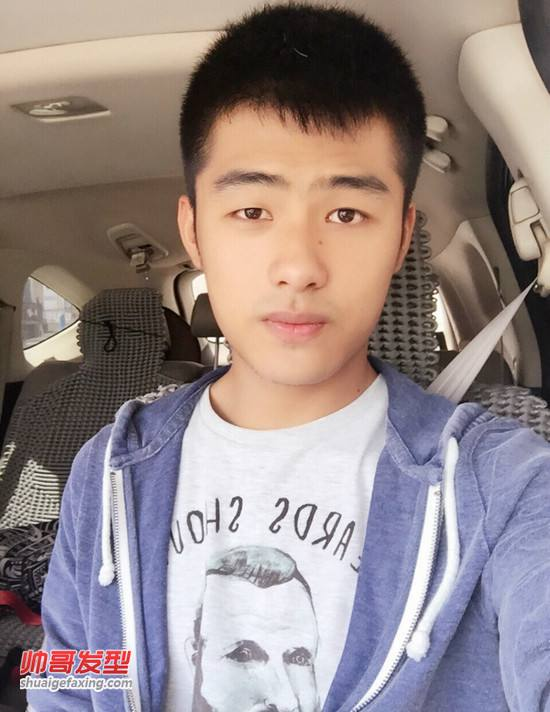person: (158, 26, 550, 552)
